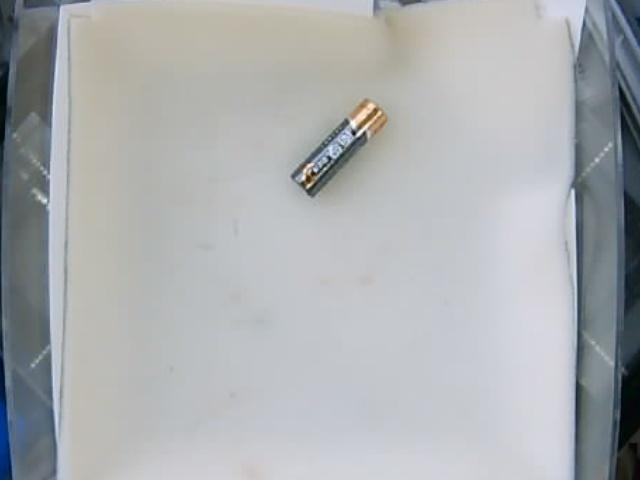Battery: (289, 97, 389, 198)
